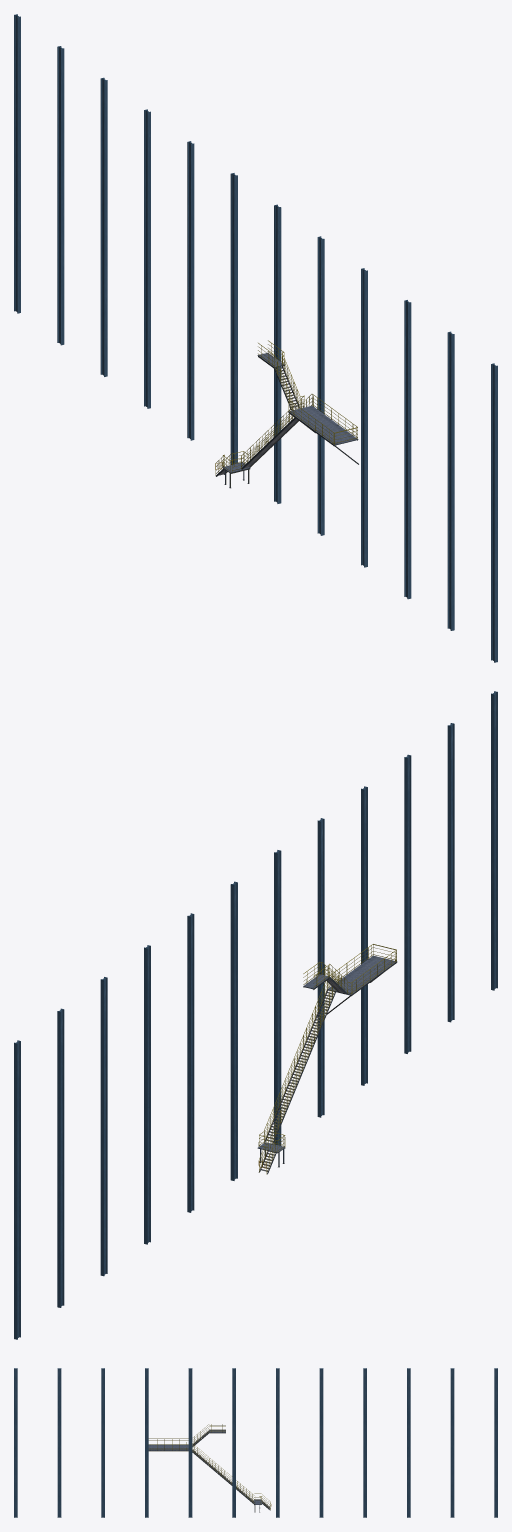
The model's file is Work at height stairs.fbx.
3 views of the same model, one above another, from view 1: azimuth 30°, elevation 25°; view 2: azimuth 150°, elevation 25°; view 3: azimuth 270°, elevation 25° (orthographic). The views are drawn at different scales.
Parts seen in each view (by area): view 1: Cube.065, StepTread9.006_Metal_St_0.002; view 2: Cube.065, StepTread9.006_Metal_St_0.002; view 3: Cube.065, StepTread9.006_Metal_St_0.002.
Part boxes in pixels (x1=…): Cube.065: x1=14, y1=14, x2=497, y2=662; StepTread9.006_Metal_St_0.002: x1=215, y1=340, x2=358, y2=488; Cube.065: x1=14, y1=691, x2=497, y2=1339; StepTread9.006_Metal_St_0.002: x1=257, y1=944, x2=397, y2=1174; Cube.065: x1=14, y1=1368, x2=497, y2=1517; StepTread9.006_Metal_St_0.002: x1=148, y1=1424, x2=270, y2=1512.
Size of the model in its own units: 253 by 2160 by 6353.
Materials: 3 (3 with a texture image).
